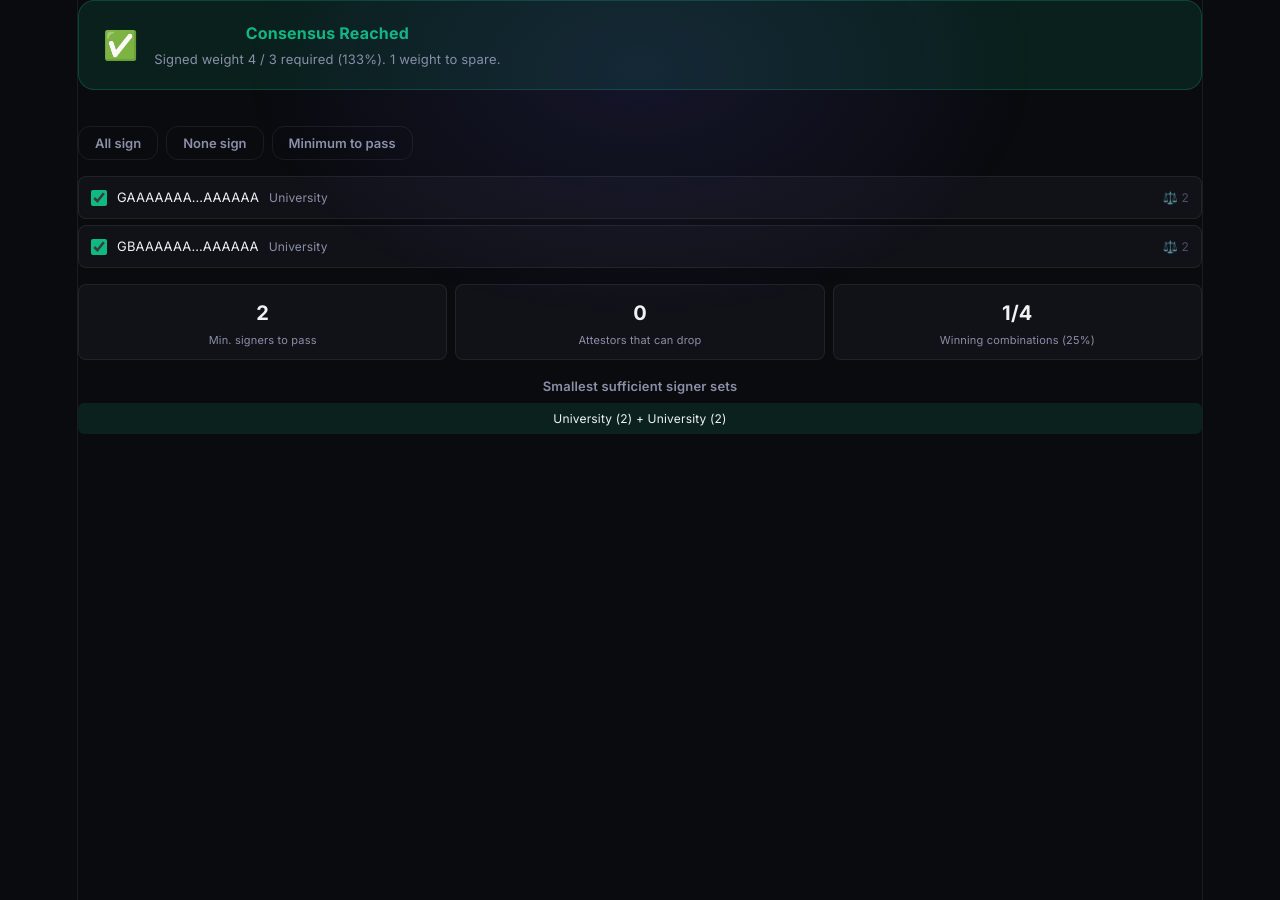
Scenario: <SliceSimulator /> › updates the outcome when an attestor is toggled off
Expected: the text "Consensus Reached" is shown, [246,23,409,43]
Click the 1st checkbox.
click(99, 198)  # box [91,190,107,206]
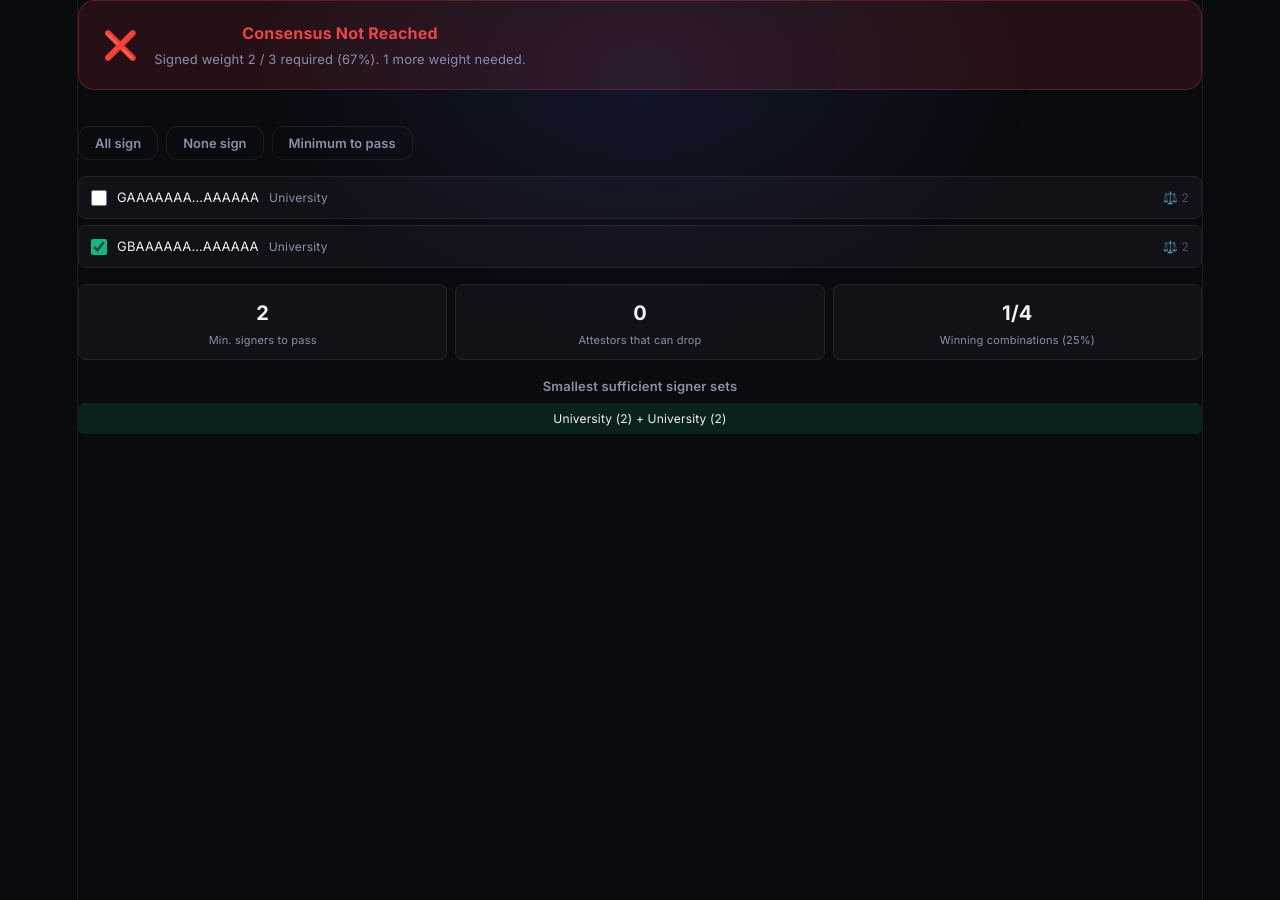
Now the text "Consensus Not Reached" is shown, box [242,23,438,43]
